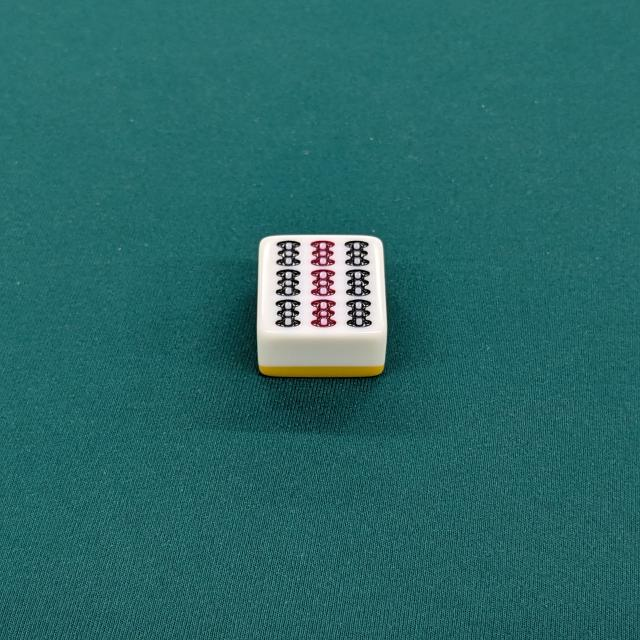9s: (255, 234, 389, 382)
